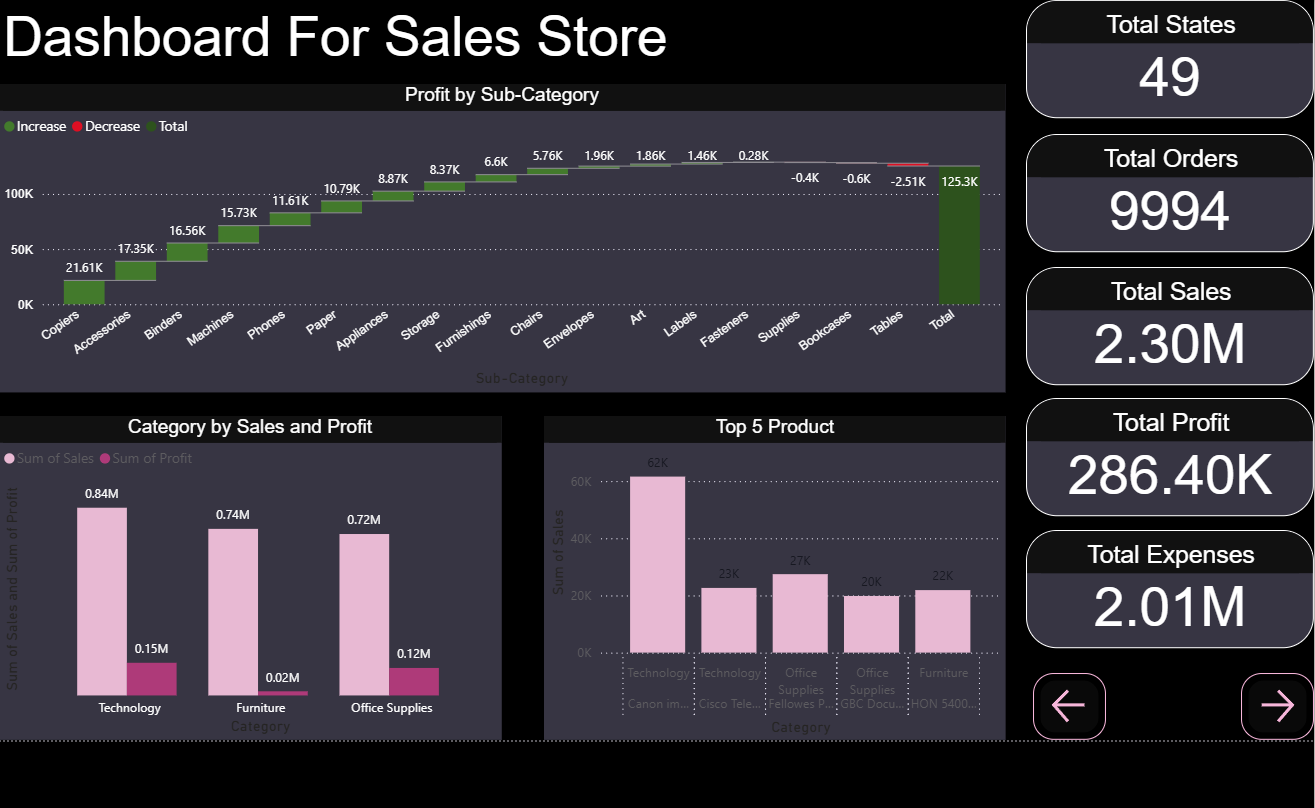

Layout of this report page (visuals, bound fields, positions):
{"tool":"powerbi","page":{"name":"Product","canvas":[1280,720],"ordinal":4},"visuals":[{"type":"card","title":"Total States","fields":{"Values":["Count(Dim_Location.State)"]},"box":[999.9,0,280.1,114.8],"z":0},{"type":"textbox","box":[0,0,666.7,81.7],"z":1},{"type":"card","title":"Total Orders","fields":{"Values":["CountNonNull(Facts.Order ID)"]},"box":[999.9,130.3,280.1,114.8],"z":2},{"type":"card","title":"Total Sales","fields":{"Values":["Sum(Facts.Sales)"]},"box":[999.9,259.7,280.1,114.8],"z":3},{"type":"card","title":"Total Profit","fields":{"Values":["Sum(Facts.Profit)"]},"box":[999.9,387.1,280.1,114.8],"z":4},{"type":"waterfallChart","title":"Profit by Sub-Category","fields":{"Y":["Sum(Facts.Profit)"],"Category":["Dim_Product.Sub-Category"]},"box":[0,81.7,980.4,299.6],"z":5},{"type":"clusteredColumnChart","title":"Category by Sales and Profit","fields":{"Y":["Sum(Facts.Sales)","Sum(Facts.Profit)"],"Category":["Dim_Product.Category"]},"box":[0,404.6,490.2,315.1],"z":6},{"type":"actionButton","box":[1209,654.6,71,65.2],"z":7},{"type":"actionButton","box":[1006.7,654.6,71,65.2],"z":8},{"type":"card","title":"Total Expenses","fields":{"Values":["Sum(Facts.expenses)"]},"box":[999.9,515.5,280.1,114.8],"z":9},{"type":"clusteredColumnChart","title":"Top 5 Product","fields":{"Y":["Sum(Facts.Sales)"],"Category":["Dim_Product.Product Name","Dim_Product.Category"]},"box":[531.1,404.6,449.4,315.1],"z":10}]}

Visuals, with their boxes on the page's 1280x720 design canvas (x1, y1, x2, y2). These are canvas units, not pixel positions in the 1315x808 screenshot, which may show the page scaled, cropped or inside an application window:
"Total States" card: <box>1000,0,1280,115</box>
textbox: <box>0,0,667,82</box>
"Total Orders" card: <box>1000,130,1280,245</box>
"Total Sales" card: <box>1000,260,1280,374</box>
"Total Profit" card: <box>1000,387,1280,502</box>
"Profit by Sub-Category" waterfallChart: <box>0,82,980,381</box>
"Category by Sales and Profit" clusteredColumnChart: <box>0,405,490,720</box>
actionButton: <box>1209,655,1280,720</box>
actionButton: <box>1007,655,1078,720</box>
"Total Expenses" card: <box>1000,516,1280,630</box>
"Top 5 Product" clusteredColumnChart: <box>531,405,980,720</box>
